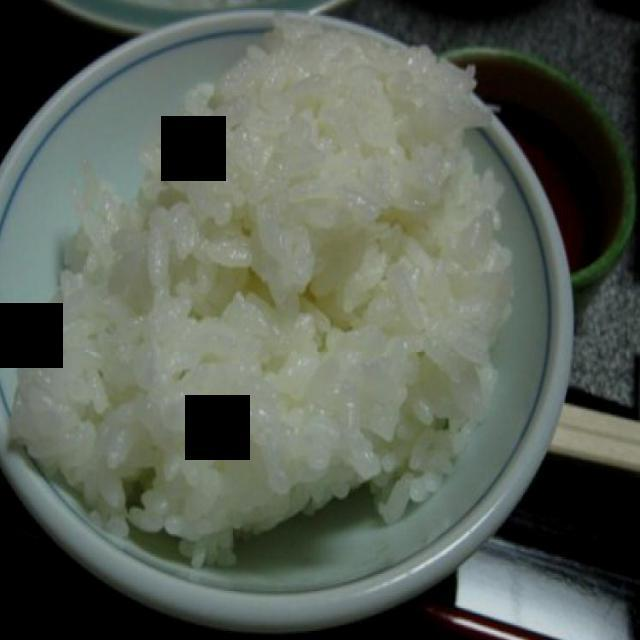rice: (3, 15, 511, 571)
